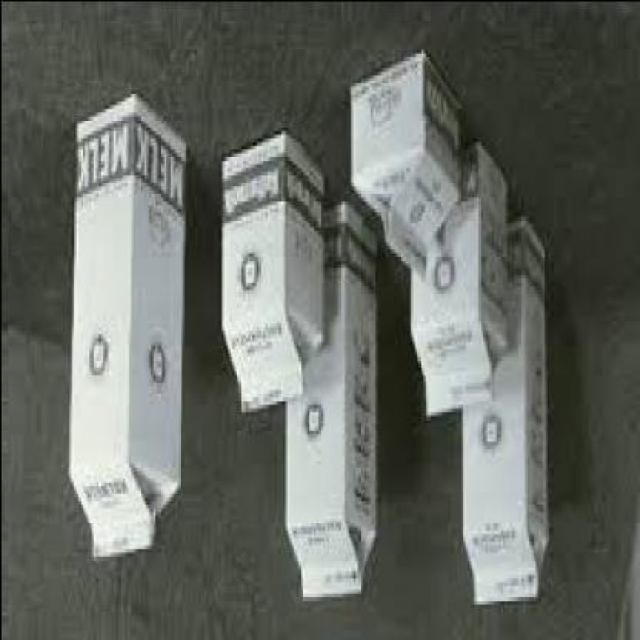box: (77, 92, 185, 566), (286, 200, 379, 606), (463, 219, 551, 608), (223, 126, 326, 419), (408, 137, 511, 426), (352, 50, 463, 279)
